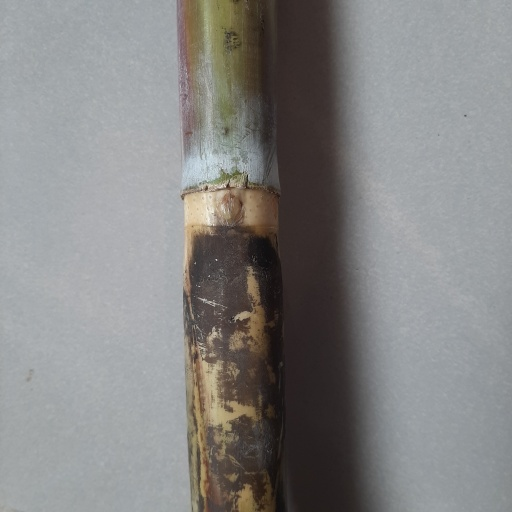Bud: (216, 194, 242, 226)
